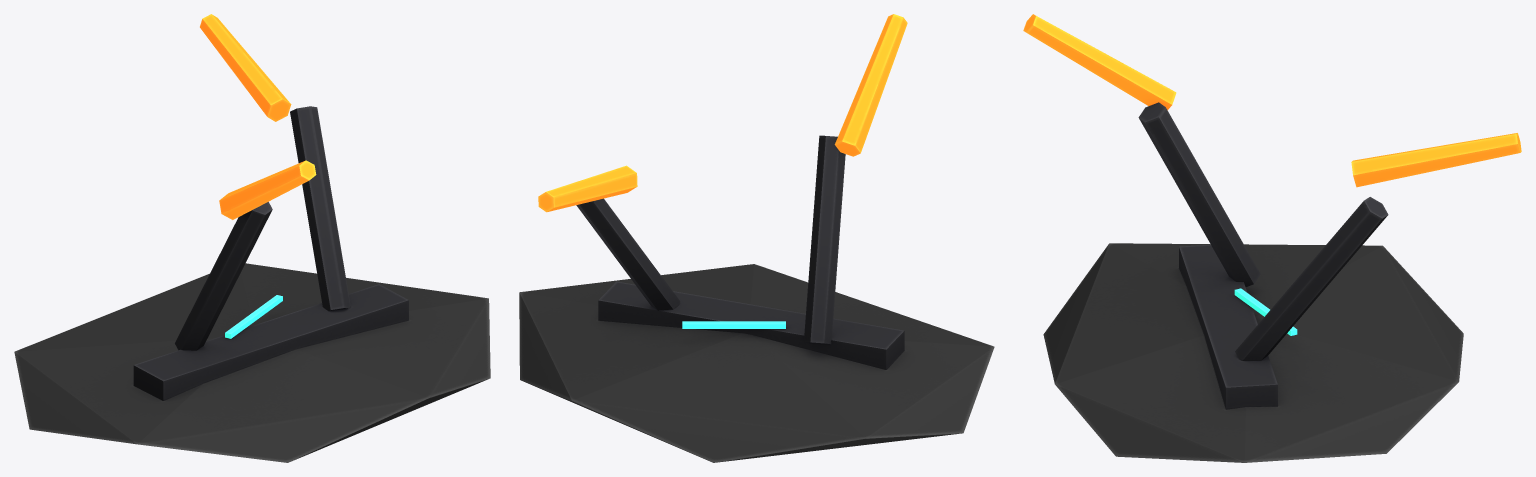
The model's file is sign_vessel_bars.glb.
3 views of the same model, side by side, from view 1: azimuth 30°, elevation 25°; view 2: azimuth 150°, elevation 25°; view 3: azimuth 270°, elevation 25° (orthographic). The views are drawn at different scales.
Visible parts, largest first — view 1: sign_vessel_bars; view 2: sign_vessel_bars; view 3: sign_vessel_bars.
Boxes of the visible parts, left/top/right/bottom form: sign_vessel_bars: left=14, top=14, right=490, bottom=462; sign_vessel_bars: left=519, top=14, right=994, bottom=462; sign_vessel_bars: left=1023, top=14, right=1521, bottom=462.
Size of the model in its own units: 1.51 by 1 by 1.33.
1 material, 1 textured.
